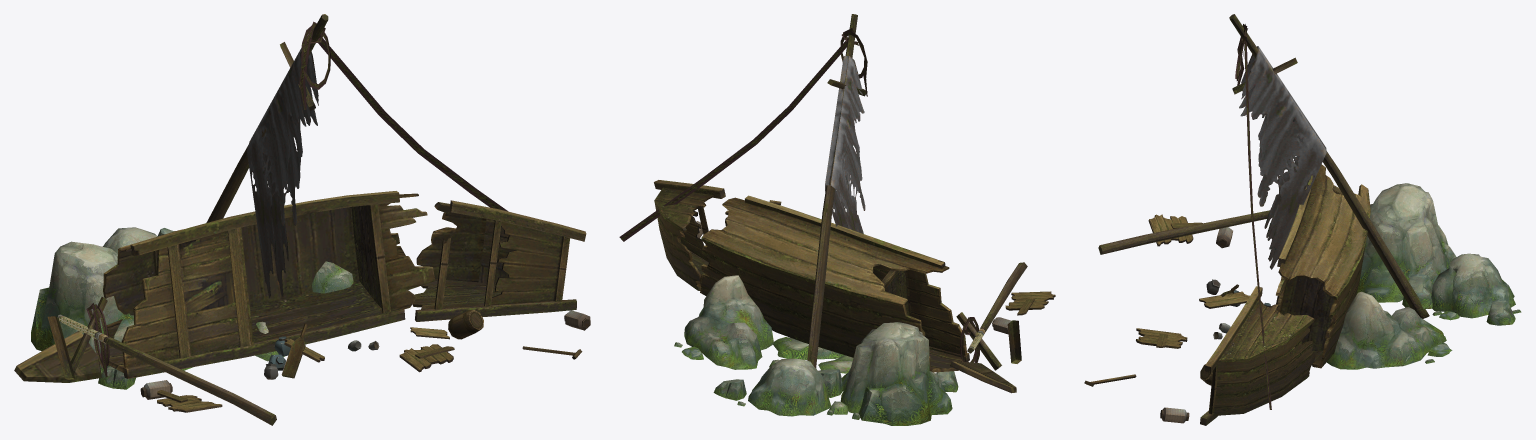
The model's file is 7001_Item_chuan_2.FBX.
3 views of the same model, side by side, from view 1: azimuth 30°, elevation 25°; view 2: azimuth 150°, elevation 25°; view 3: azimuth 270°, elevation 25° (orthographic). The views are drawn at different scales.
Parts seen in each view (by area): view 1: 7001_Item_chuan_2; view 2: 7001_Item_chuan_2; view 3: 7001_Item_chuan_2.
Boxes of the visible parts, box(x1,y1,x2,y2) form: 7001_Item_chuan_2: box(14, 14, 590, 425); 7001_Item_chuan_2: box(619, 14, 1055, 425); 7001_Item_chuan_2: box(1084, 14, 1521, 425).
Bounding box in the file's own units: 1937 × 1341 × 1608.
